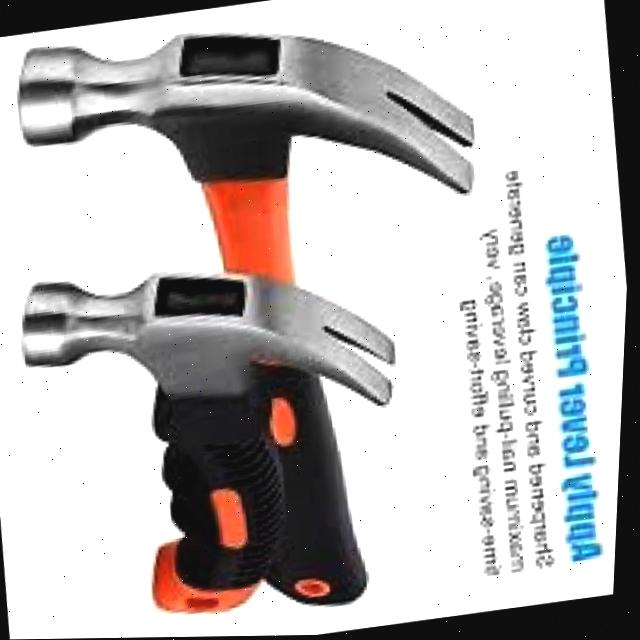hammer: (0, 0, 542, 640), (0, 224, 439, 640)
